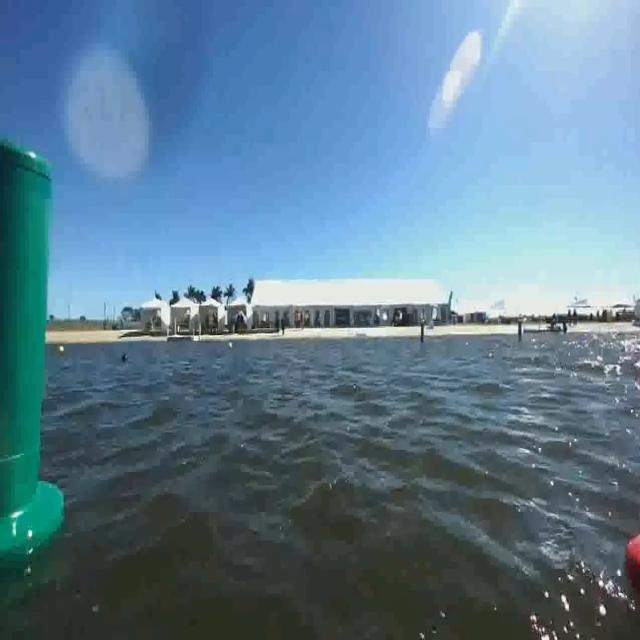green-column-buoy: (0, 143, 60, 550)
red-buoy: (624, 532, 640, 593)
